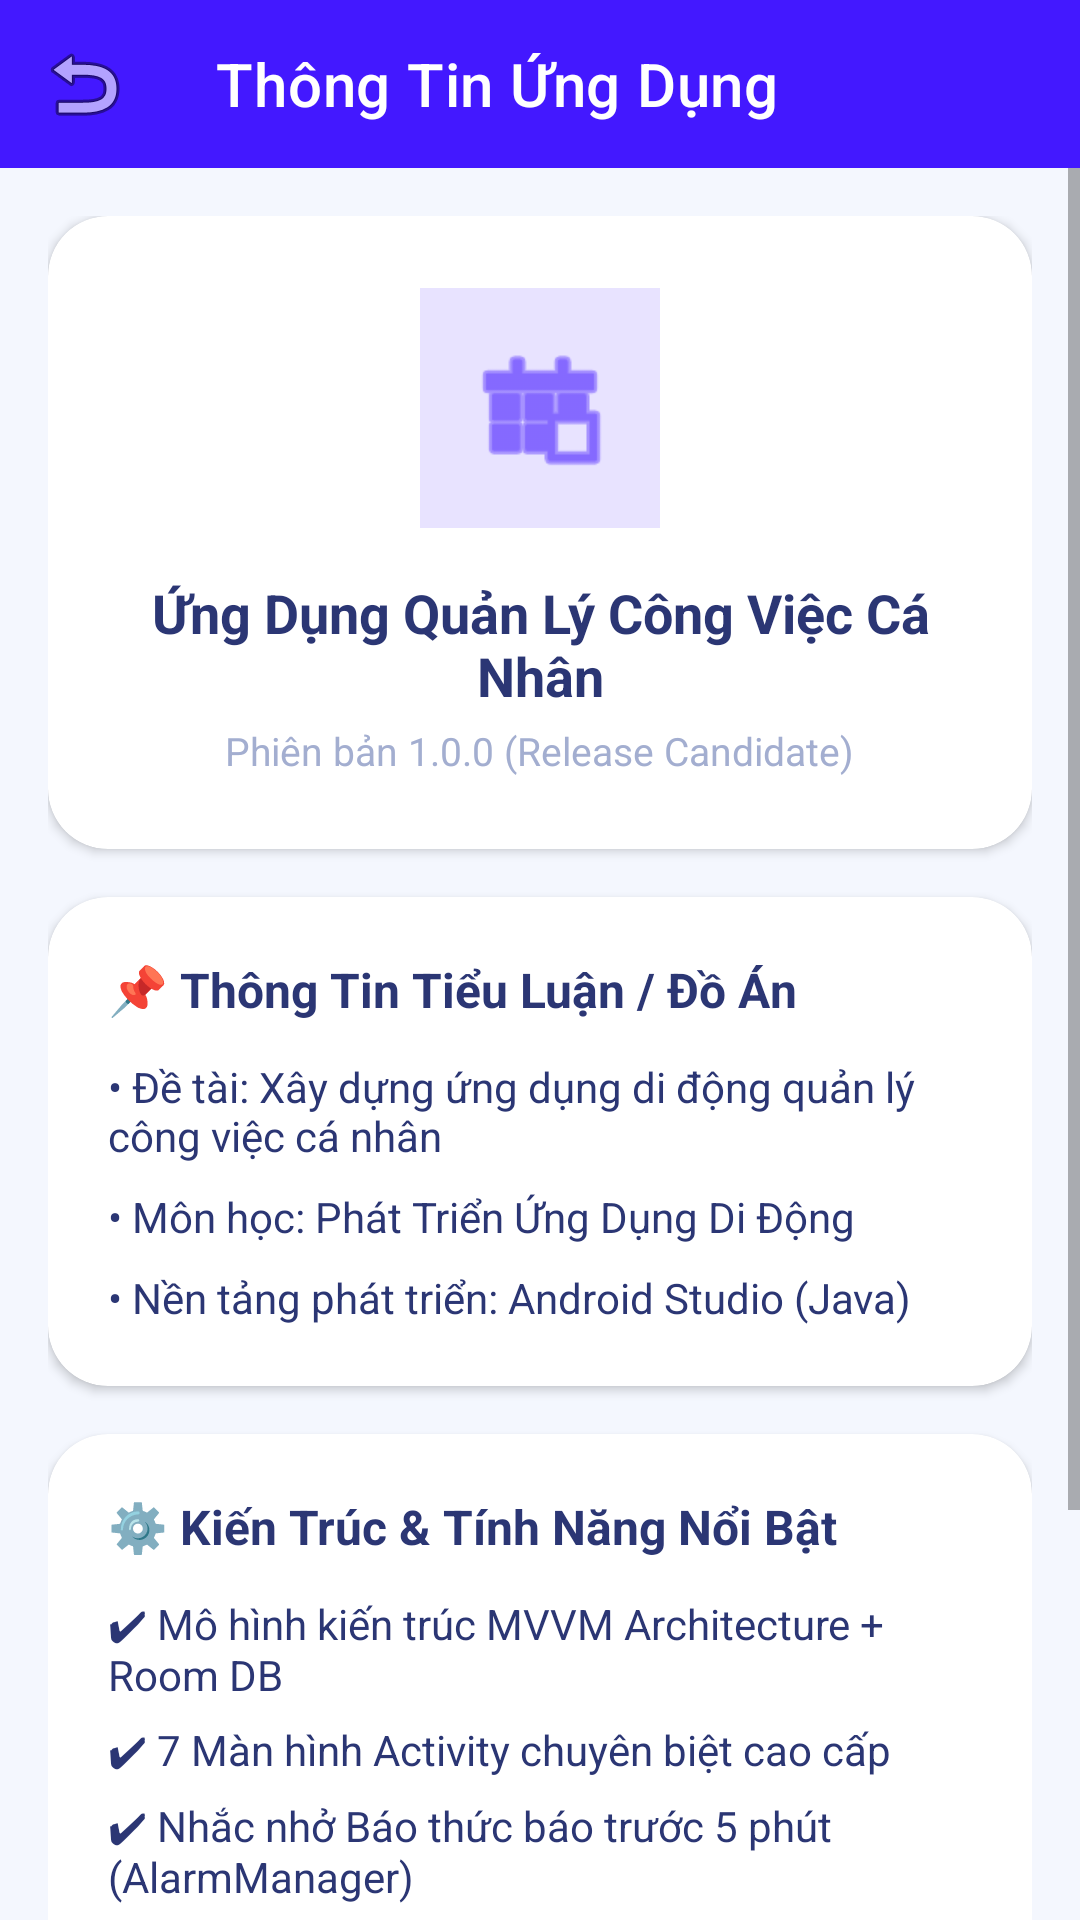

Icon click points for this 1080x1920 phone screenshot, format point (x, y):
today: point (540, 408)
